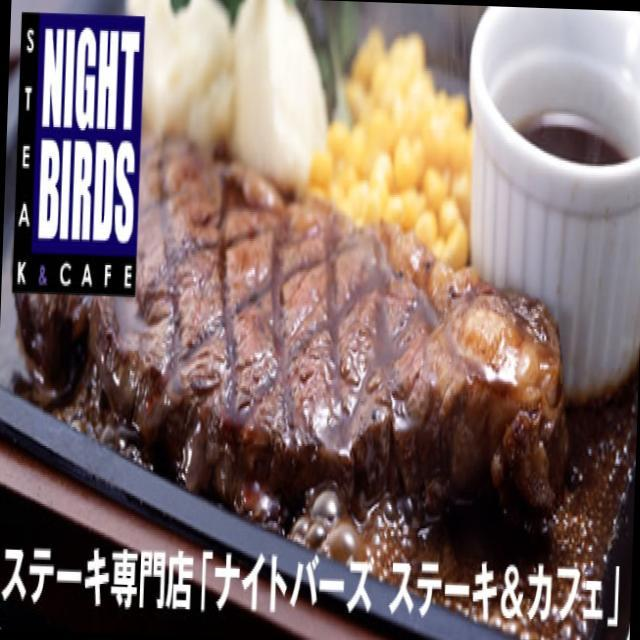Beef Steak: (118, 180, 508, 532)
